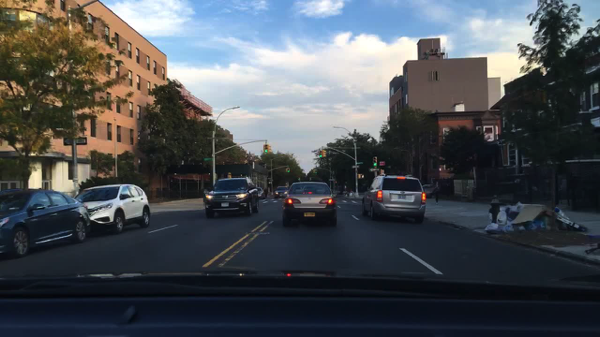car: (0, 188, 91, 258), (75, 184, 151, 235), (362, 174, 426, 223), (281, 181, 337, 226), (204, 177, 257, 217), (422, 184, 436, 198), (273, 186, 288, 198), (256, 187, 266, 200)
person: (434, 182, 440, 204)
traffic light: (264, 144, 269, 153), (373, 157, 377, 167), (267, 145, 272, 153), (358, 174, 364, 180), (379, 169, 384, 175), (323, 149, 326, 158), (319, 151, 322, 158), (286, 168, 290, 172), (298, 177, 301, 181), (315, 171, 317, 175), (285, 169, 287, 173), (309, 177, 311, 181)
traffic sign: (64, 137, 86, 145), (369, 168, 379, 172), (203, 158, 211, 162), (379, 162, 385, 166), (356, 162, 363, 165), (352, 166, 359, 169)
